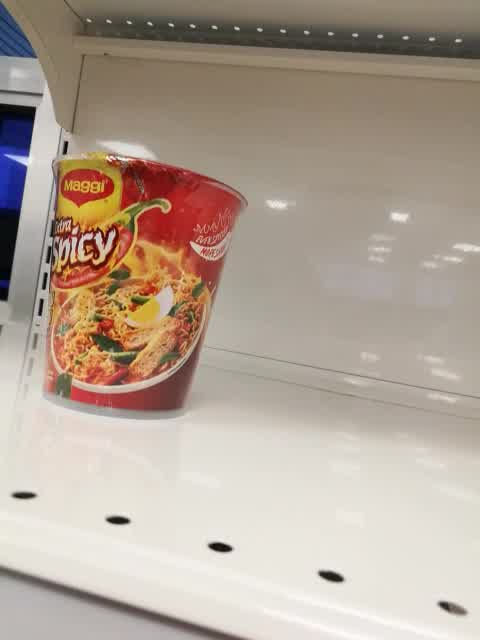maggi: (41, 151, 250, 422)
